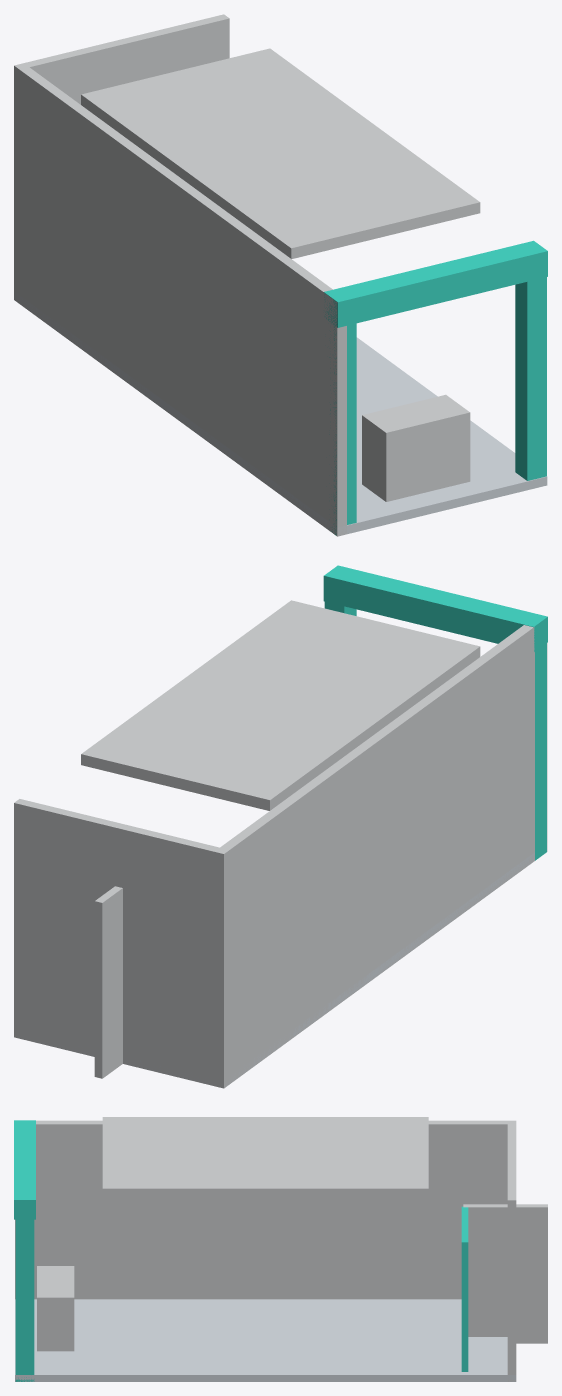
3 views of the same model, one above another, from view 1: azimuth 30°, elevation 25°; view 2: azimuth 150°, elevation 25°; view 3: azimuth 270°, elevation 25° (orthographic). The views are drawn at different scales.
Visible parts, largest first — view 1: Exhibition Booth Concept; view 2: Exhibition Booth Concept; view 3: Exhibition Booth Concept.
Boxes of the visible parts, left/top/right/bottom form: Exhibition Booth Concept: left=14, top=14, right=547, bottom=536; Exhibition Booth Concept: left=14, top=565, right=547, bottom=1088; Exhibition Booth Concept: left=14, top=1117, right=547, bottom=1381.
Size of the model in its own units: 3 by 3.34 by 8.52.
